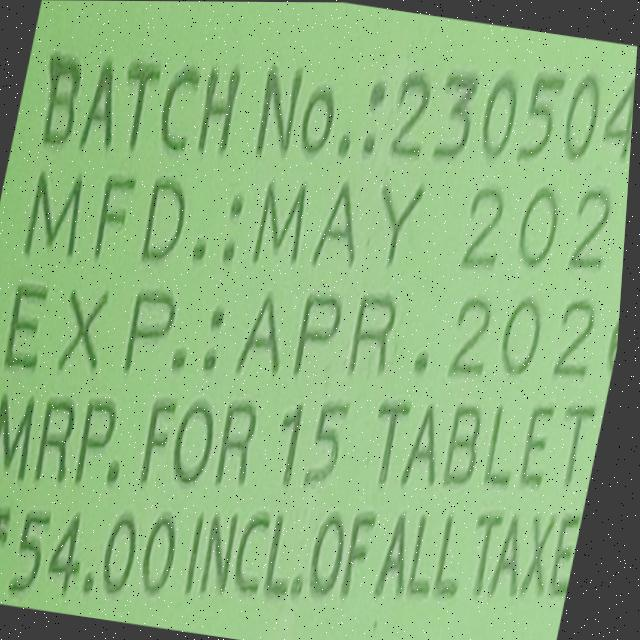sentence: (9, 258, 624, 387), (0, 379, 609, 497), (26, 162, 630, 278), (44, 51, 636, 166), (0, 490, 589, 603)
